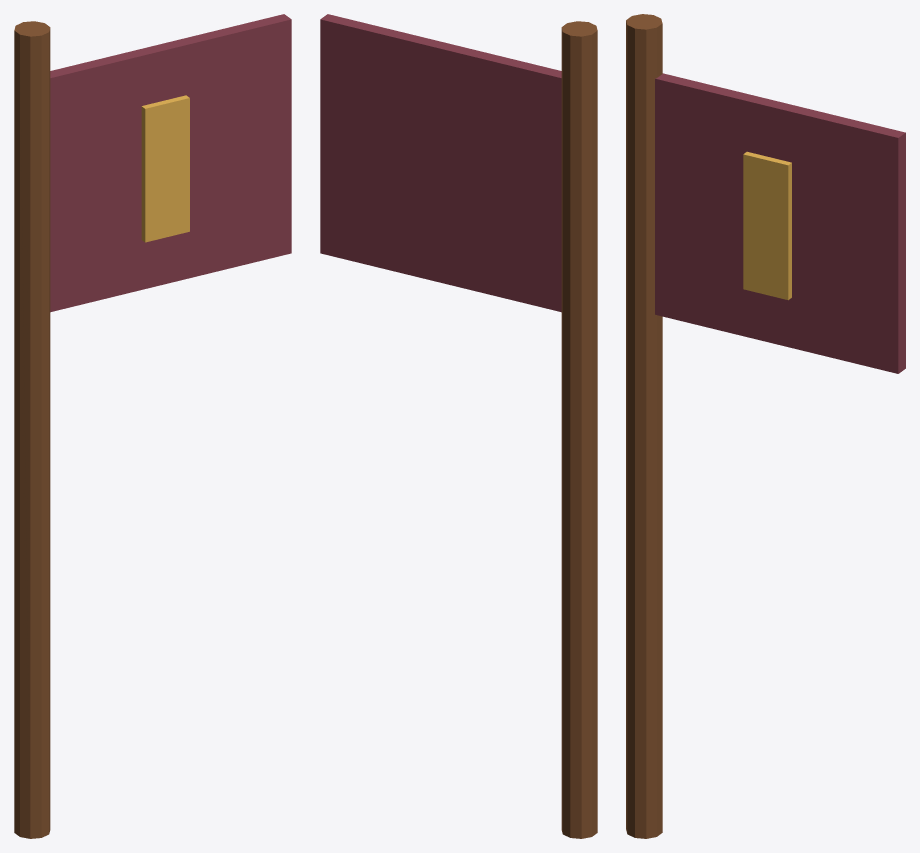
File: banner.fbx
The picture shows the model from 3 angles, left to right: view 1: azimuth 30°, elevation 25°; view 2: azimuth 150°, elevation 25°; view 3: azimuth 330°, elevation 25°; orthographic projection.
Visible parts, largest first — view 1: Flag, Pole, Sigil; view 2: Flag, Pole; view 3: Flag, Pole, Sigil.
Part boxes in pixels (left/top/right/bottom): Flag: left=50, top=14, right=291, bottom=312; Pole: left=14, top=21, right=50, bottom=838; Sigil: left=141, top=95, right=189, bottom=242; Flag: left=320, top=14, right=561, bottom=312; Pole: left=561, top=21, right=597, bottom=838; Flag: left=655, top=73, right=905, bottom=373; Pole: left=626, top=14, right=662, bottom=838; Sigil: left=743, top=151, right=791, bottom=300.
Bounding box in the file's own units: 84.76 × 240 × 10.
